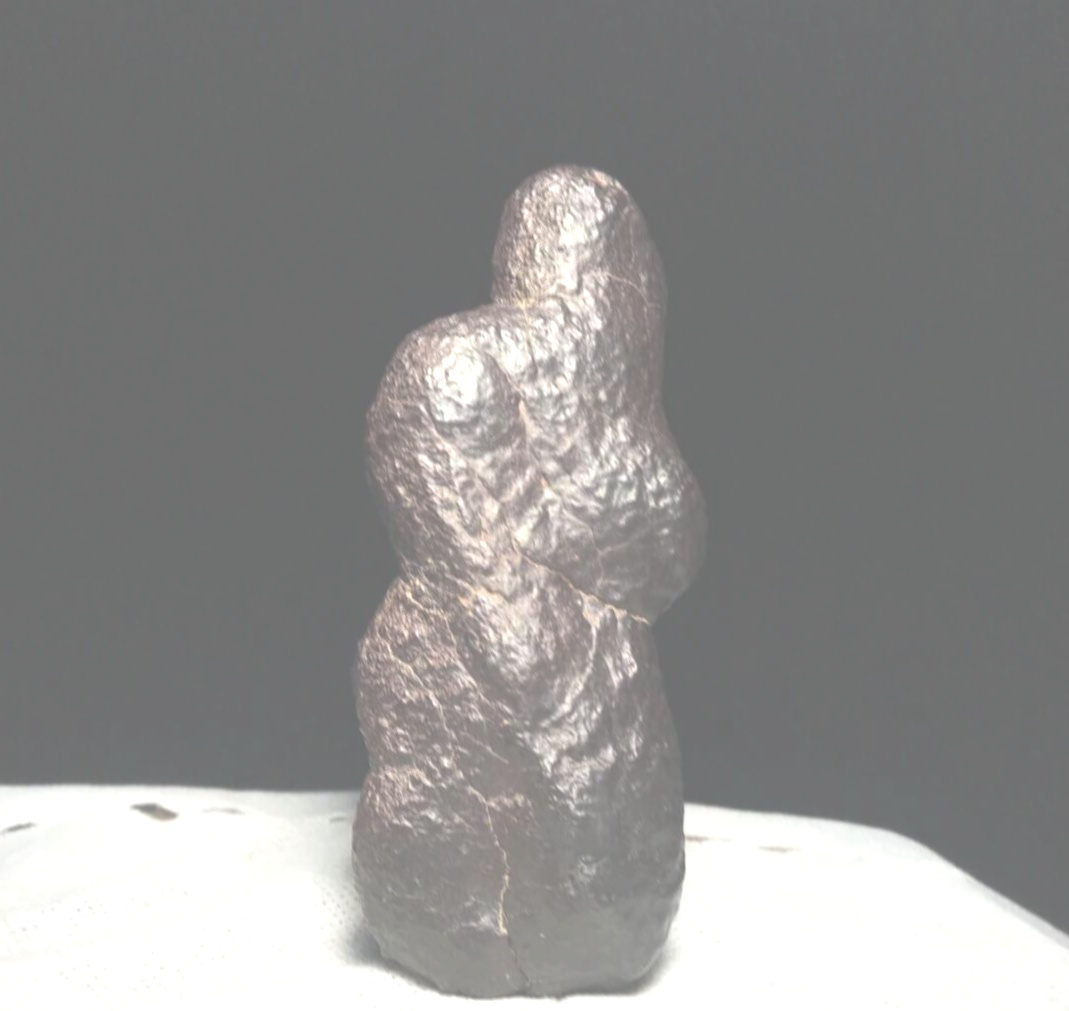halobolite: (285, 143, 757, 1011)
